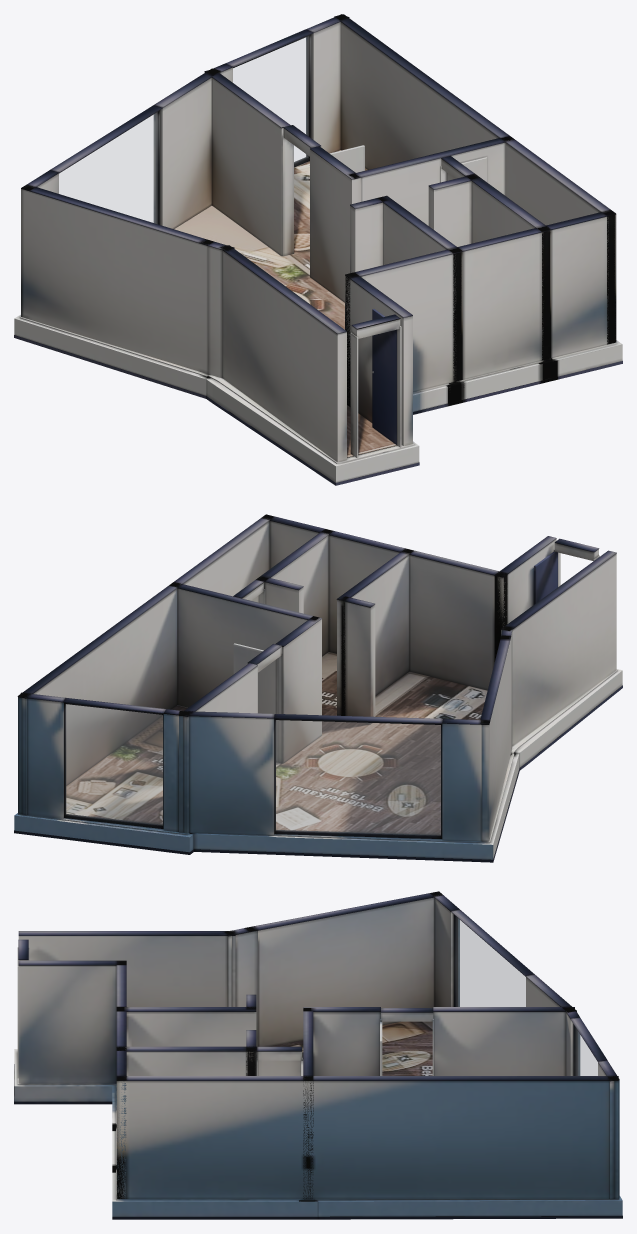
3 views of the same model, one above another, from view 1: azimuth 30°, elevation 25°; view 2: azimuth 150°, elevation 25°; view 3: azimuth 270°, elevation 25° (orthographic). The views are drawn at different scales.
Visible parts, largest first — view 1: plan, glass0_m, glass1_m; view 2: plan, glass0_m, glass1_m; view 3: plan, glass0_m, glass1_m.
Boxes of the visible parts, x1,y1,x2,y2 form: plan: (14, 14, 622, 485); glass0_m: (59, 112, 157, 223); glass1_m: (233, 36, 308, 162); plan: (14, 514, 622, 862); glass0_m: (276, 720, 440, 835); glass1_m: (66, 704, 162, 825); plan: (14, 891, 622, 1219); glass0_m: (456, 917, 525, 1006); glass1_m: (576, 1029, 597, 1075).
Size of the model in its own units: 7.9 by 2.62 by 10.52.
2 materials, 1 textured.
